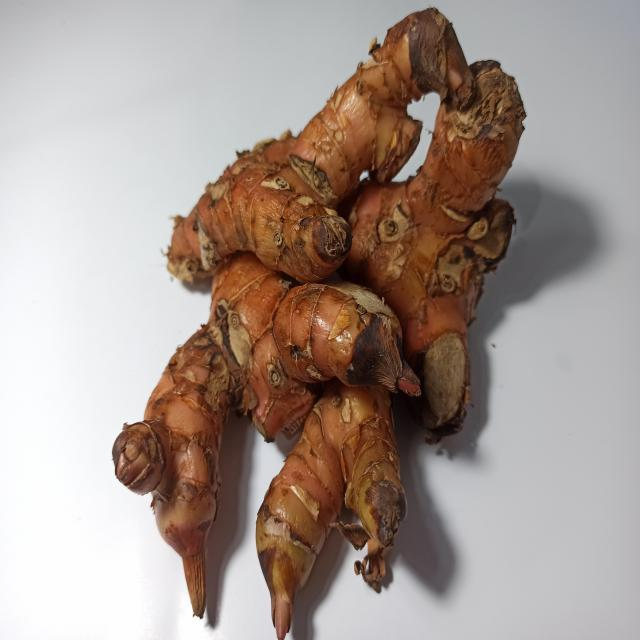ginger: (105, 0, 508, 612)
